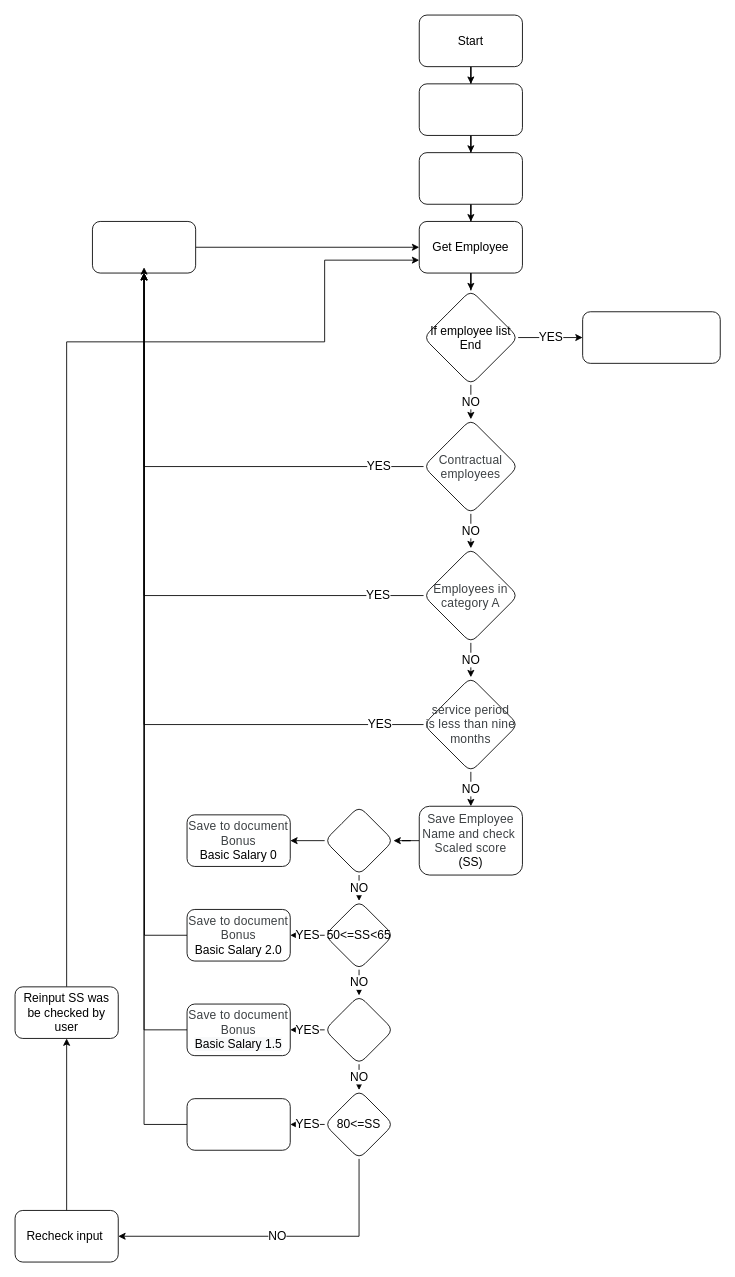
Image size: 735x1277. Some labels were removed from this diagram. Each missing label, with the centre of its shape:
"0<SS< 50" goes at pixel 358 840.
"65<=SS<80" goes at pixel 358 1029.
"Get Next Empolyee" goes at pixel 144 247.
"Initialize" goes at pixel 470 109.
"Print Out All eligible Employee Name and bonus rate" goes at pixel 651 337.
"Read Employee Document" goes at pixel 470 178.
"Save to document Bonus Basic Salary 1.0" goes at pixel 238 1124.
